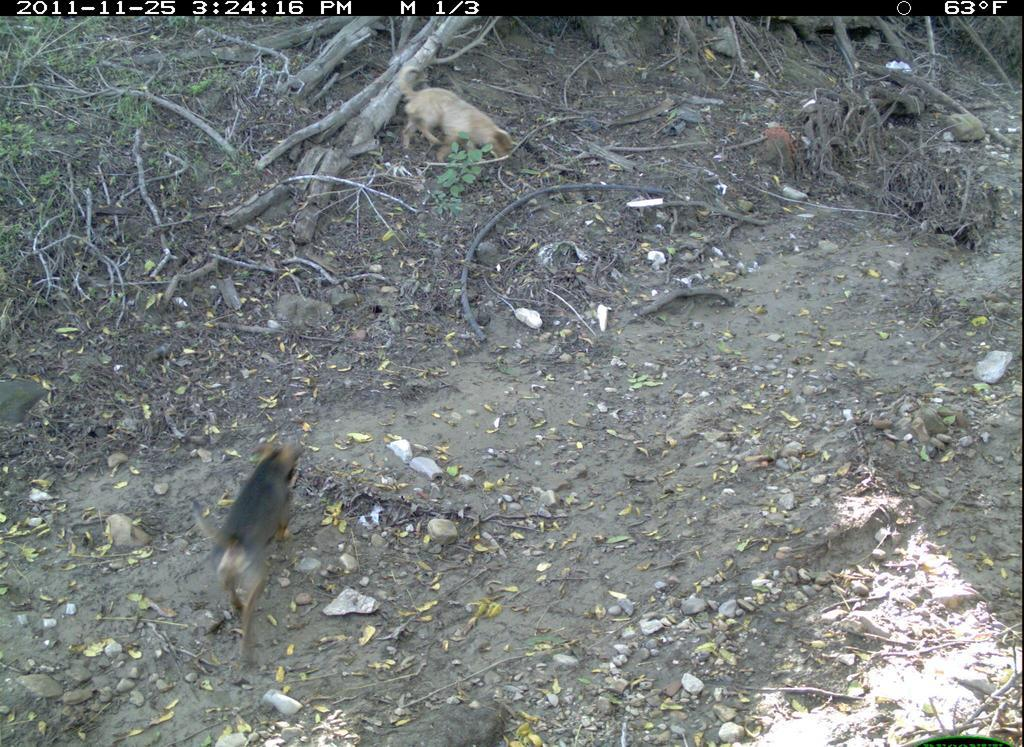dog: (196, 415, 308, 697), (391, 58, 521, 186)
